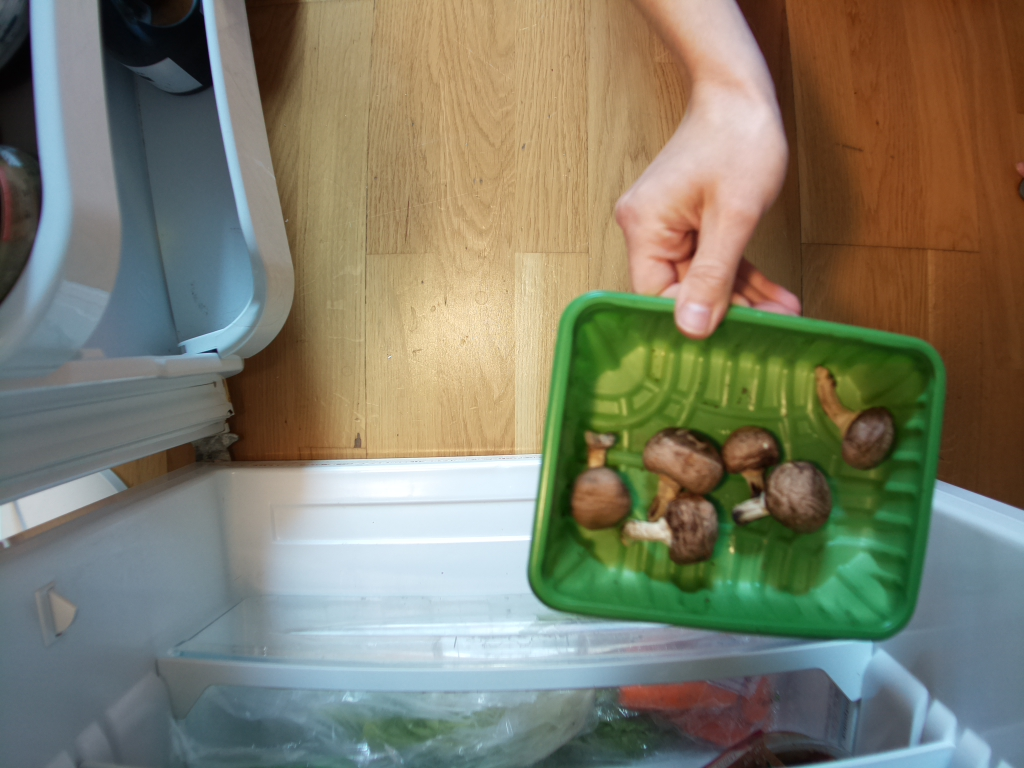mushrooms-bad: (534, 288, 943, 646)
